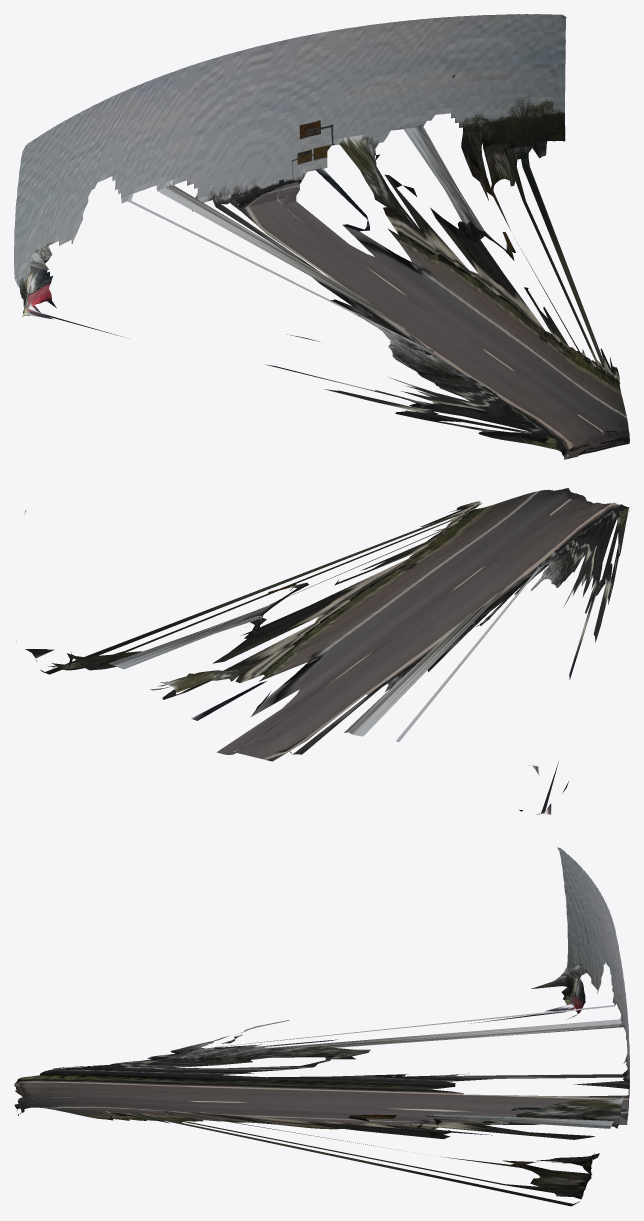
The picture shows the model from 3 angles, top to bottom: view 1: azimuth 30°, elevation 25°; view 2: azimuth 150°, elevation 25°; view 3: azimuth 270°, elevation 25°; orthographic projection. The views are drawn at different scales.
Visible parts, largest first — view 1: defaultobject; view 2: defaultobject; view 3: defaultobject.
Part boxes in pixels (left/top/right/bottom): defaultobject: left=14, top=14, right=629, bottom=459; defaultobject: left=24, top=488, right=629, bottom=814; defaultobject: left=14, top=847, right=629, bottom=1206.
Size of the model in its own units: 41.14 by 13.23 by 44.37.
Materials: 1 (1 with a texture image).
